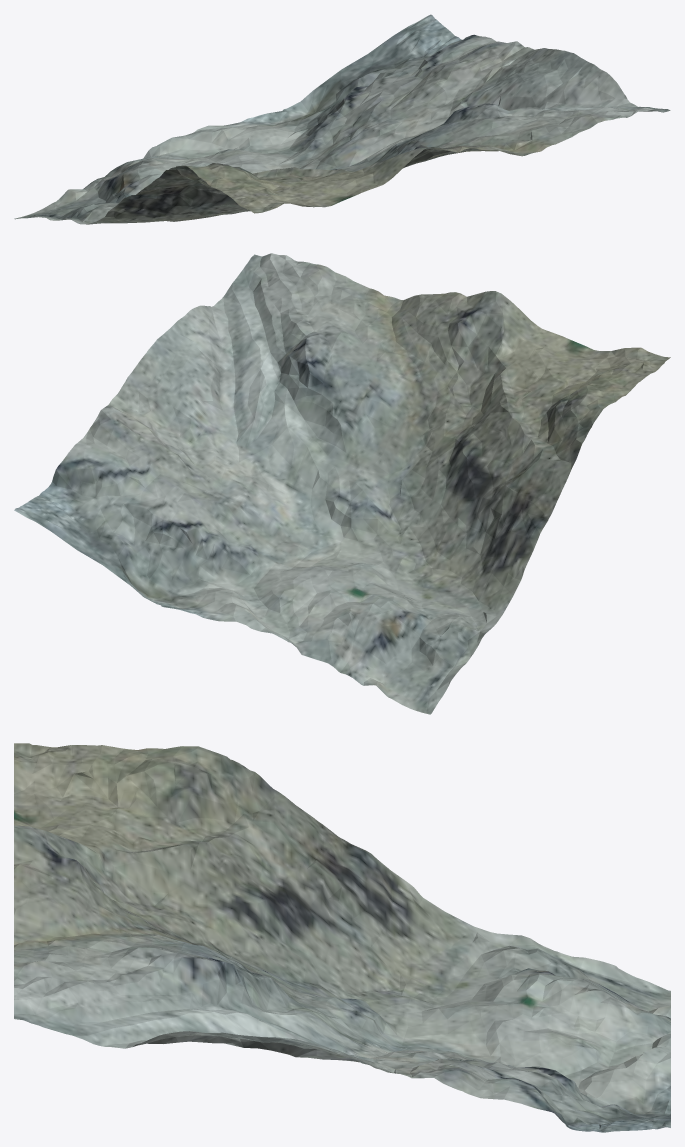
3 views of the same model, one above another, from view 1: azimuth 30°, elevation 25°; view 2: azimuth 150°, elevation 25°; view 3: azimuth 270°, elevation 25° (orthographic). The views are drawn at different scales.
Parts seen in each view (by area): view 1: Plane; view 2: Plane; view 3: Plane.
Boxes of the visible parts, x1,y1,x2,y2 form: Plane: [14, 14, 670, 224]; Plane: [14, 253, 670, 714]; Plane: [14, 743, 670, 1132].
Size of the model in its own units: 0.6 by 0.282 by 0.6.
Materials: 1 (1 with a texture image).
